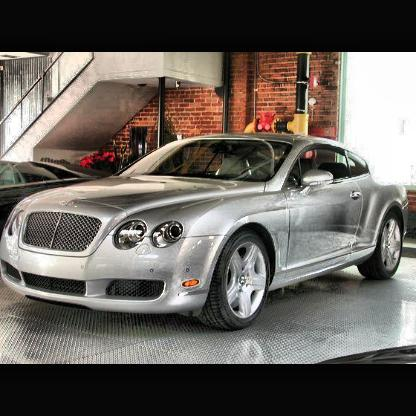Bentley Continental GT Coupe 2007: (2, 136, 410, 329)
